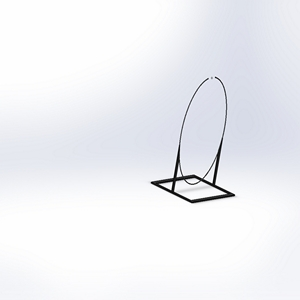circle: (152, 75, 238, 203)
